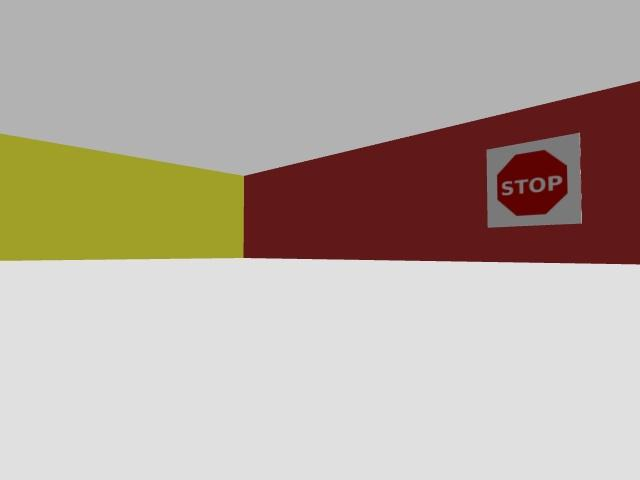stop: (488, 133, 581, 227)
